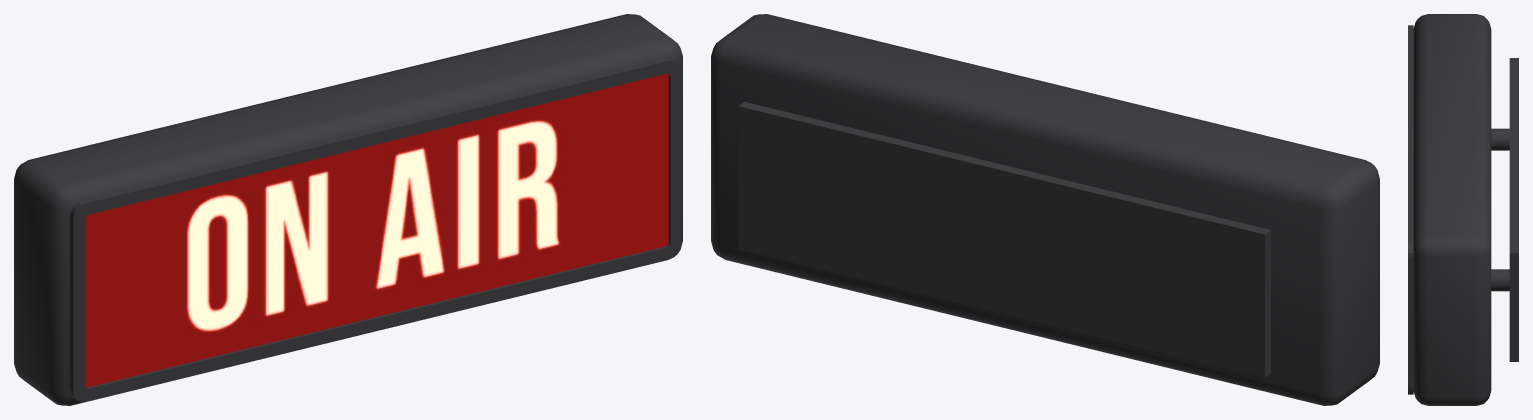
File: on-air-sign.glb
3 renders of one model, left to right at view 1: azimuth 30°, elevation 25°; view 2: azimuth 150°, elevation 25°; view 3: azimuth 270°, elevation 25°, orthographic. The views are drawn at different scales.
Visible parts, largest first — view 1: onair_N36; view 2: onair_N36; view 3: onair_N36.
Boxes of the visible parts, box(x1,y1,x2,y2) form: onair_N36: box(14, 14, 682, 405); onair_N36: box(711, 14, 1379, 405); onair_N36: box(1408, 14, 1518, 405).
Size of the model in its own units: 0.6 by 0.2 by 0.12.
Materials: 2 (1 with a texture image).
